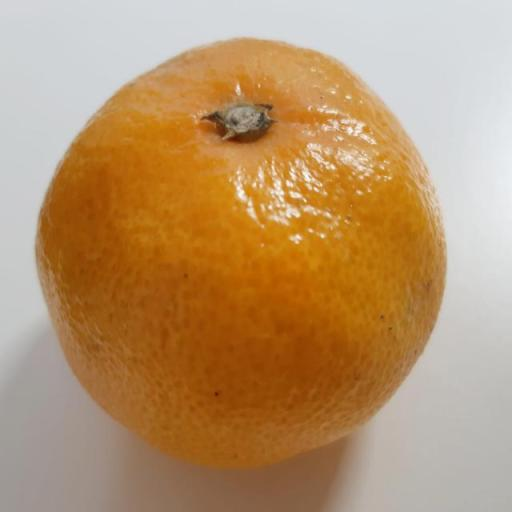fruit: (38, 38, 444, 464)
